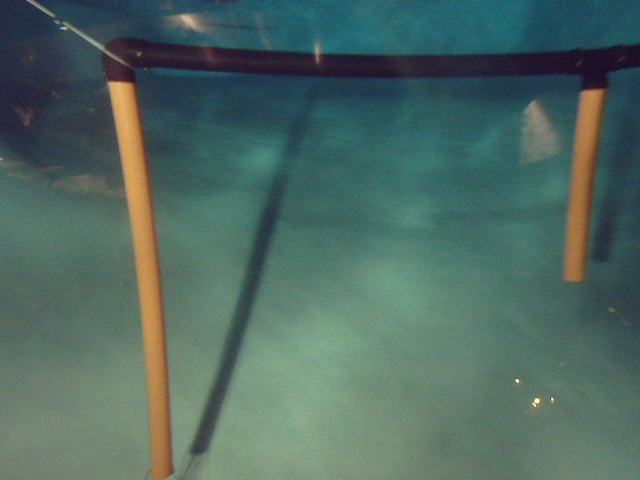Gate: (107, 75, 181, 480), (560, 75, 609, 289)
